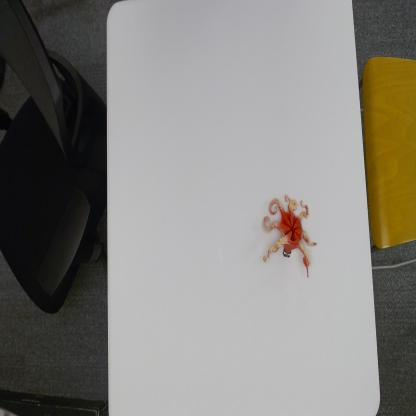Octopus: (261, 191, 318, 282)
